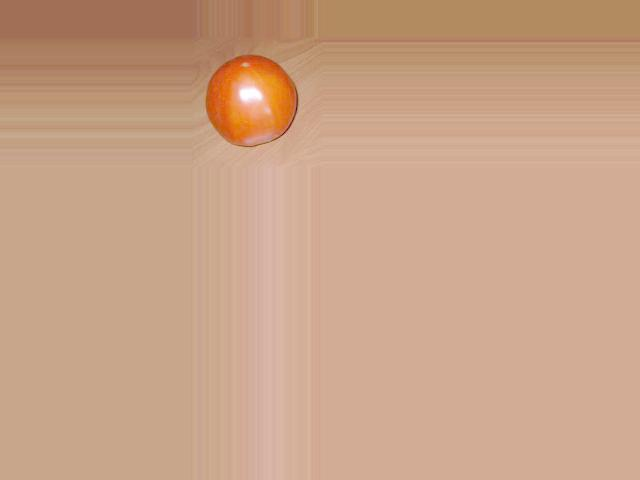tomato: (204, 54, 297, 146)
